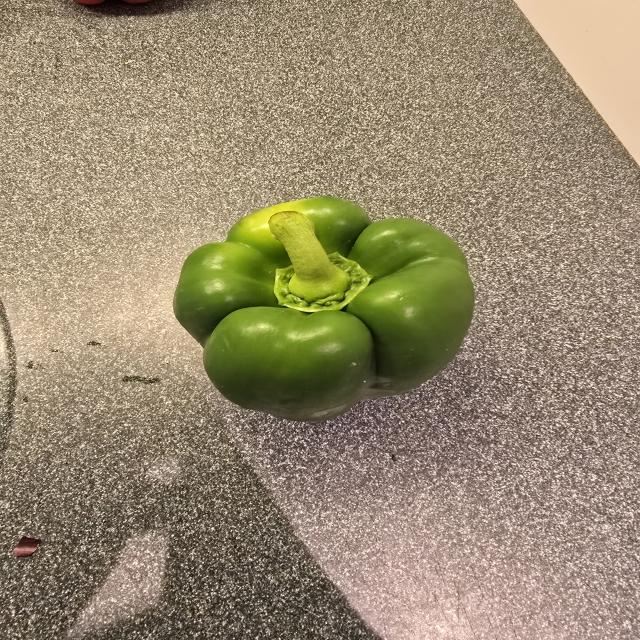Bell Pepper: (153, 186, 498, 433)
